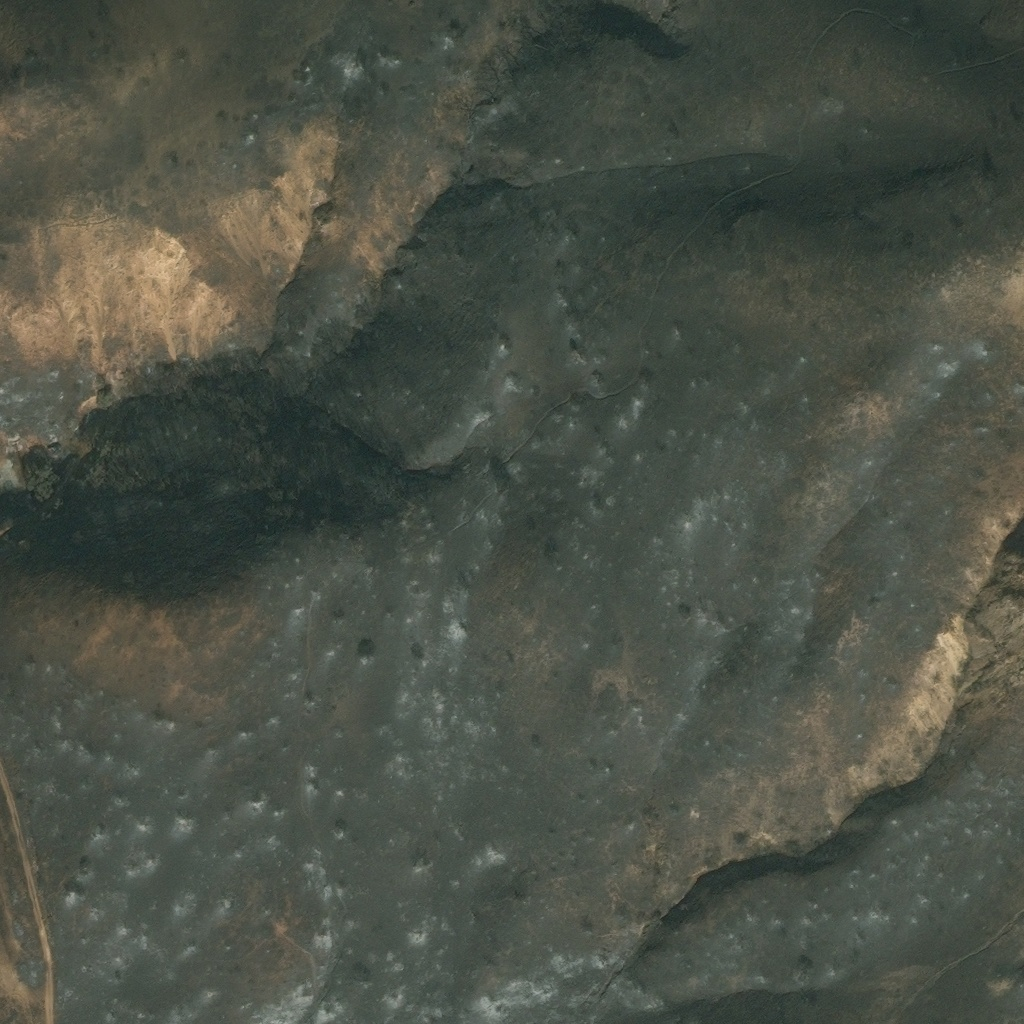3 destroyed: (7, 439, 34, 478)
